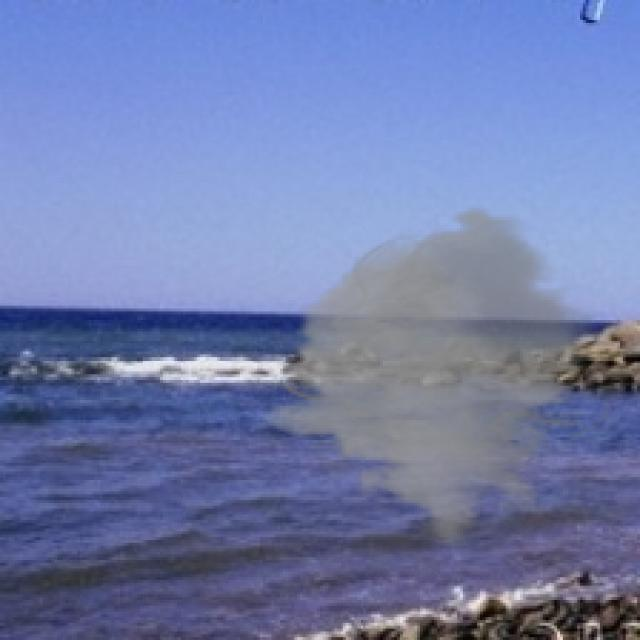smoke: (248, 206, 628, 548)
